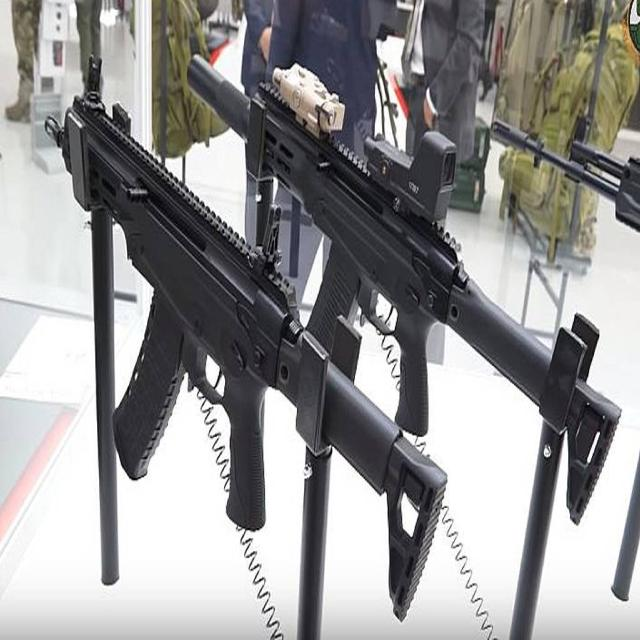Rifle: (46, 100, 448, 621), (188, 59, 622, 526)
